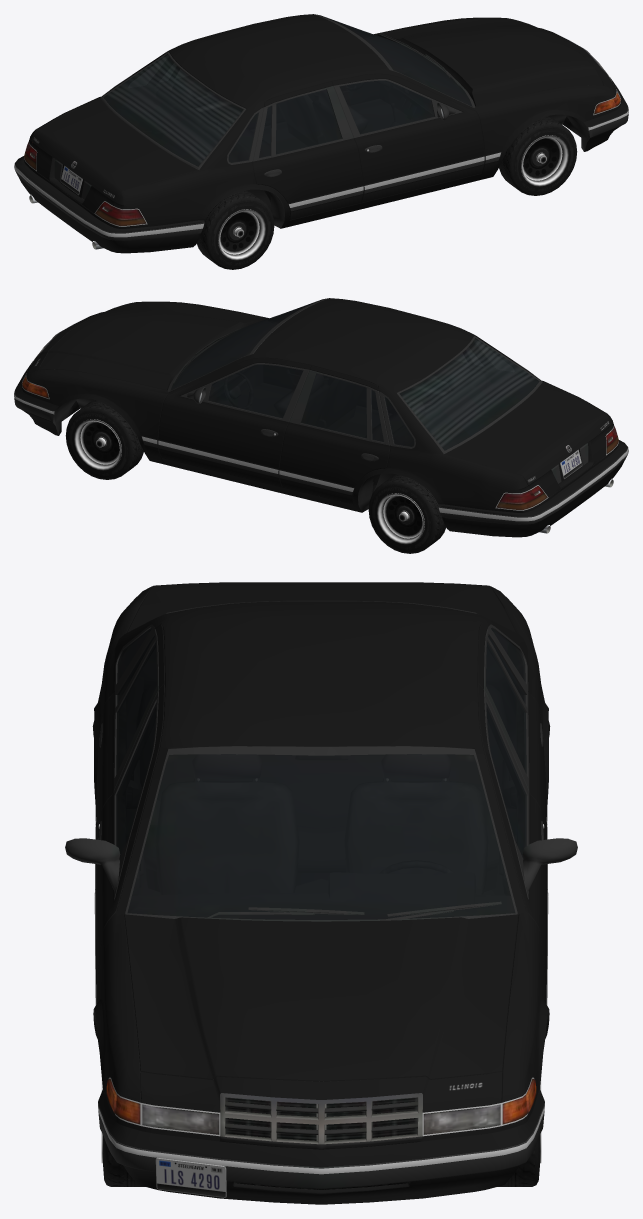
File: v_illinois90.glb
The picture shows the model from 3 angles, top to bottom: view 1: azimuth 30°, elevation 25°; view 2: azimuth 150°, elevation 25°; view 3: azimuth 270°, elevation 25°; orthographic projection. The views are drawn at different scales.
Visible parts, largest first — view 1: Illinois90_Body_Illinois90_Bodymat_0, Illinois90_Interior_UCB_Interiors_2_0, Illinois90_Hood_Illinois90_Bodymat_0, Illinois90_Trunkdoor_Illinois90_Bodymat_0, Illinois90_Bottom_UCB_BOTTOM_0, Illinois90_Rear_Glass_UCB_Lights_and_Glass_Transperent_0, Illinois90_Body_Glass_UCB_Lights_and_Glass_Transperent_0, Illinois90_WheelStock_RR_RB1c_Tire_1k_0, Illinois90_WheelStock_FR_RB1c_Tire_1k_0, Illinois90_Glass_Passenger_UCB_Lights_and_Glass_Transperent_, Illinois90_Bumper_rear_Illinois90_Bodymat_0, Illinois90_Windshield_UCB_Lights_and_Glass_Transperent_0 (+7 smaller); view 2: Illinois90_Body_Illinois90_Bodymat_0, Illinois90_Interior_UCB_Interiors_2_0, Illinois90_Hood_Illinois90_Bodymat_0, Illinois90_Trunkdoor_Illinois90_Bodymat_0, Illinois90_Bottom_UCB_BOTTOM_0, Illinois90_Rear_Glass_UCB_Lights_and_Glass_Transperent_0, Illinois90_Body_Glass_UCB_Lights_and_Glass_Transperent_0, Illinois90_WheelStock_RL_RB1c_Tire_1k_0, Illinois90_WheelStock_FL_RB1c_Tire_1k_0, Illinois90_glass_Driver_UCB_Lights_and_Glass_Transperent_0, Illinois90_Bumper_rear_Illinois90_Bodymat_0, Illinois90_Windshield_UCB_Lights_and_Glass_Transperent_0 (+7 smaller); view 3: Illinois90_Body_Illinois90_Bodymat_0, Illinois90_Interior_UCB_Interiors_2_0, Illinois90_Hood_Illinois90_Bodymat_0, Illinois90_Windshield_UCB_Lights_and_Glass_Transperent_0, Illinois90_Bottom_UCB_BOTTOM_0, Illinois90_Bumper_front_Illinois90_Bodymat_0, Illinois90_Bumper_front_inner_UCB_BOTTOM_0, Illinois90_Trunkdoor_Illinois90_Bodymat_0, Illinois90_Body_Glass_UCB_Lights_and_Glass_Transperent_0, Illinois90_Headlights_Glass_UCB_Lights_and_Glass_Transperent, Illinois90_Headlights_UCB_Lights_and_Glass_0, Illinois90_glass_Driver_UCB_Lights_and_Glass_Transperent_0 (+5 smaller).
Boxes of the visible parts, left/top/right/bottom form: Illinois90_Body_Illinois90_Bodymat_0: left=24, top=14, right=621, bottom=228; Illinois90_Interior_UCB_Interiors_2_0: left=104, top=19, right=471, bottom=201; Illinois90_Hood_Illinois90_Bodymat_0: left=377, top=18, right=603, bottom=106; Illinois90_Trunkdoor_Illinois90_Bodymat_0: left=32, top=98, right=197, bottom=213; Illinois90_Bottom_UCB_BOTTOM_0: left=24, top=14, right=620, bottom=249; Illinois90_Rear_Glass_UCB_Lights_and_Glass_Transperent_0: left=103, top=54, right=243, bottom=166; Illinois90_Body_Glass_UCB_Lights_and_Glass_Transperent_0: left=129, top=56, right=342, bottom=162; Illinois90_WheelStock_RR_RB1c_Tire_1k_0: left=197, top=190, right=274, bottom=269; Illinois90_WheelStock_FR_RB1c_Tire_1k_0: left=499, top=116, right=577, bottom=195; Illinois90_Glass_Passenger_UCB_Lights_and_Glass_Transperent_: left=339, top=80, right=434, bottom=134; Illinois90_Bumper_rear_Illinois90_Bodymat_0: left=15, top=156, right=204, bottom=253; Illinois90_Windshield_UCB_Lights_and_Glass_Transperent_0: left=319, top=15, right=472, bottom=106; Illinois90_Body_Illinois90_Bodymat_0: left=21, top=298, right=618, bottom=512; Illinois90_Interior_UCB_Interiors_2_0: left=171, top=303, right=538, bottom=494; Illinois90_Hood_Illinois90_Bodymat_0: left=39, top=302, right=265, bottom=390; Illinois90_Trunkdoor_Illinois90_Bodymat_0: left=445, top=382, right=610, bottom=497; Illinois90_Bottom_UCB_BOTTOM_0: left=22, top=298, right=618, bottom=533; Illinois90_Rear_Glass_UCB_Lights_and_Glass_Transperent_0: left=399, top=338, right=539, bottom=450; Illinois90_Body_Glass_UCB_Lights_and_Glass_Transperent_0: left=300, top=340, right=513, bottom=446; Illinois90_WheelStock_RL_RB1c_Tire_1k_0: left=368, top=474, right=445, bottom=553; Illinois90_WheelStock_FL_RB1c_Tire_1k_0: left=65, top=400, right=143, bottom=479; Illinois90_glass_Driver_UCB_Lights_and_Glass_Transperent_0: left=208, top=364, right=303, bottom=418; Illinois90_Bumper_rear_Illinois90_Bodymat_0: left=438, top=440, right=627, bottom=537; Illinois90_Windshield_UCB_Lights_and_Glass_Transperent_0: left=170, top=299, right=323, bottom=390; Illinois90_Body_Illinois90_Bodymat_0: left=94, top=586, right=548, bottom=1141; Illinois90_Interior_UCB_Interiors_2_0: left=118, top=632, right=524, bottom=919; Illinois90_Hood_Illinois90_Bodymat_0: left=124, top=914, right=518, bottom=1081; Illinois90_Windshield_UCB_Lights_and_Glass_Transperent_0: left=127, top=754, right=515, bottom=919; Illinois90_Bottom_UCB_BOTTOM_0: left=65, top=600, right=577, bottom=1204; Illinois90_Bumper_front_Illinois90_Bodymat_0: left=98, top=1089, right=544, bottom=1204; Illinois90_Bumper_front_inner_UCB_BOTTOM_0: left=98, top=1102, right=544, bottom=1189; Illinois90_Trunkdoor_Illinois90_Bodymat_0: left=127, top=582, right=515, bottom=632; Illinois90_Body_Glass_UCB_Lights_and_Glass_Transperent_0: left=116, top=628, right=526, bottom=773; Illinois90_Headlights_Glass_UCB_Lights_and_Glass_Transperent: left=106, top=1079, right=536, bottom=1134; Illinois90_Headlights_UCB_Lights_and_Glass_0: left=143, top=1105, right=499, bottom=1134; Illinois90_glass_Driver_UCB_Lights_and_Glass_Transperent_0: left=486, top=702, right=526, bottom=859.
Bounding box in the file's own units: 5.17 × 1.43 × 2.09.
8 materials, 7 textured.
